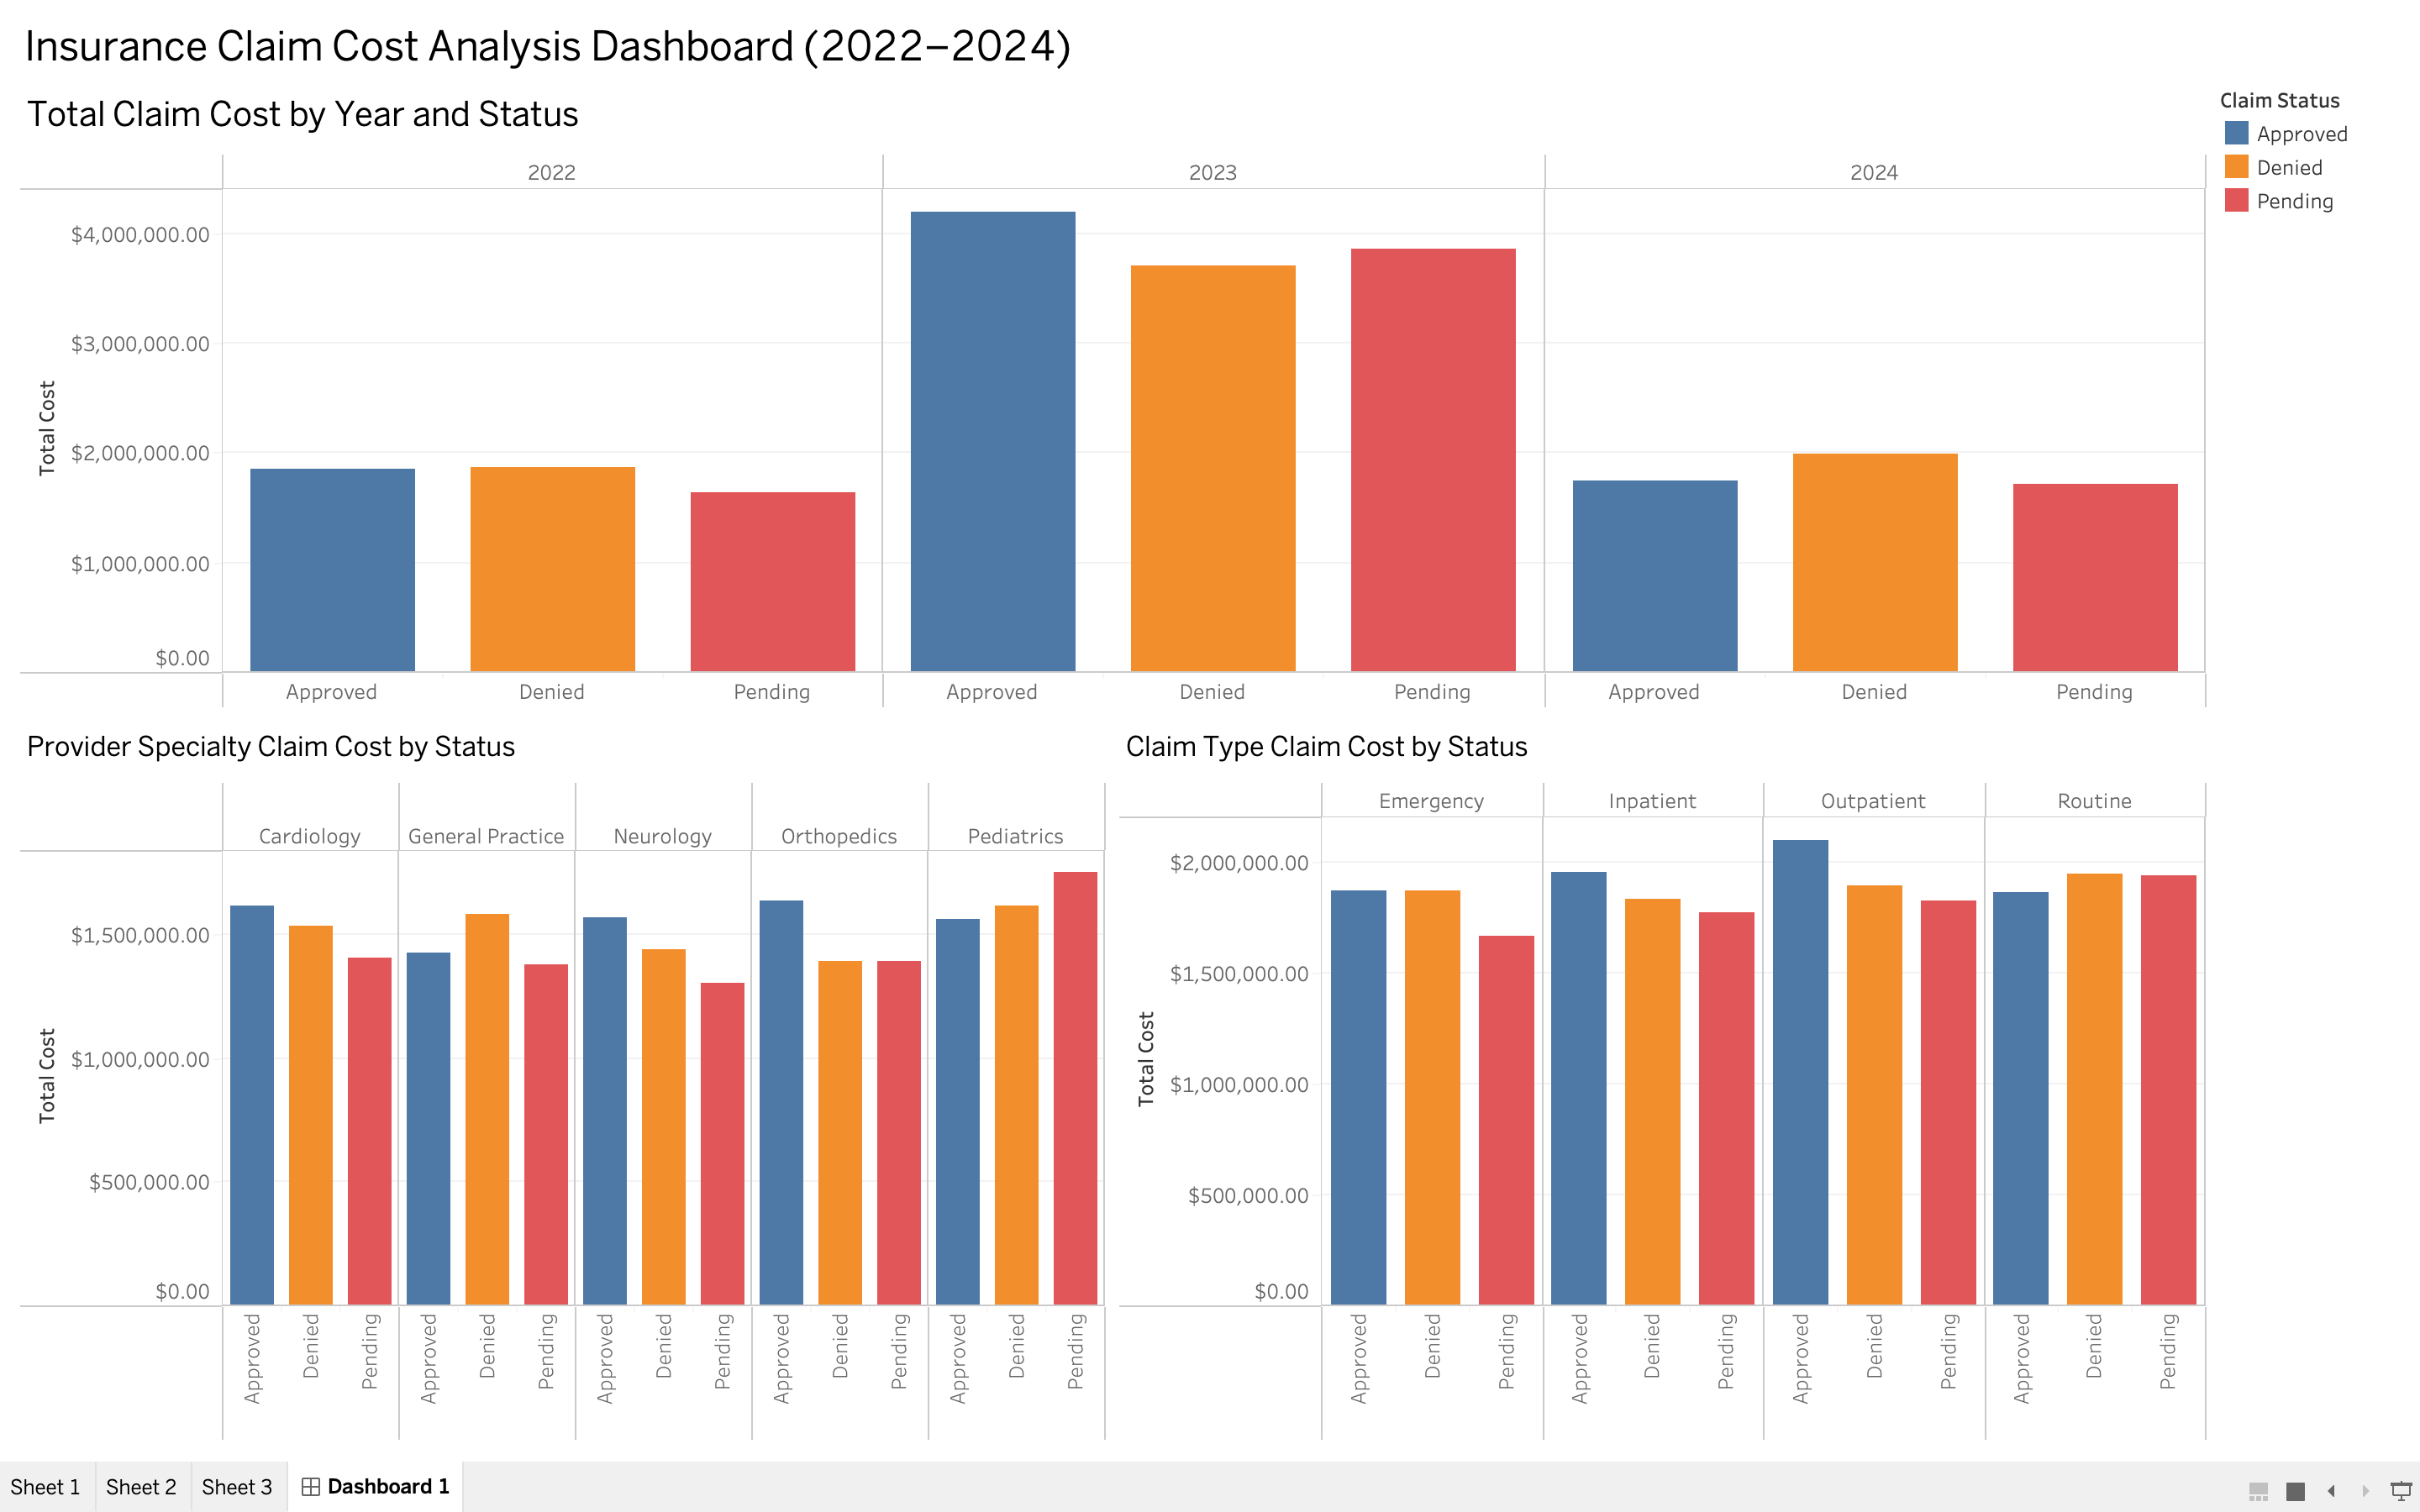

The dashboard page shown, as its layout file describes it:
{"tool":"tableau","page":{"name":"Dashboard 1","canvas":[1000,1000],"units":"permille","ordinal":0},"visuals":[{"type":"title","box":[7.2,12.6,985.6,61.6]},{"type":"worksheet","title":"Sheet 2","mark":"Bar","rows":["total_cost"],"cols":["claim_year","claimStatus"],"box":[7.2,74.2,882.4,425]},{"type":"legend","title":"Sheet 2","param":"[federated.1b52y420k9nmzv19qcxyn1bcaiok].[none:claimStatus:nk]","box":[889.6,74.2,103.2,135.9]},{"type":"worksheet","title":"Sheet 1","mark":"Bar","rows":["total_cost"],"cols":["ProviderSpecialty","claimStatus"],"box":[7.2,499.2,441.2,488.2]},{"type":"worksheet","title":"Sheet 3","mark":"Automatic","rows":["total_cost"],"cols":["ClaimType","claimStatus"],"box":[448.3,499.2,441.3,488.2]}]}

Visuals, with their boxes on the dashboard's canvas, which has no fixed pixel size, in thousandths of its width and height (x1, y1, x2, y2). These are canvas units, not pixel positions in the 2420x1512 screenshot, which may show the page scaled, cropped or inside an application window:
title: [left=7, top=13, right=993, bottom=74]
"Sheet 2" worksheet (Bar marks): [left=7, top=74, right=890, bottom=499]
"Sheet 2" legend: [left=890, top=74, right=993, bottom=210]
"Sheet 1" worksheet (Bar marks): [left=7, top=499, right=448, bottom=987]
"Sheet 3" worksheet: [left=448, top=499, right=890, bottom=987]
